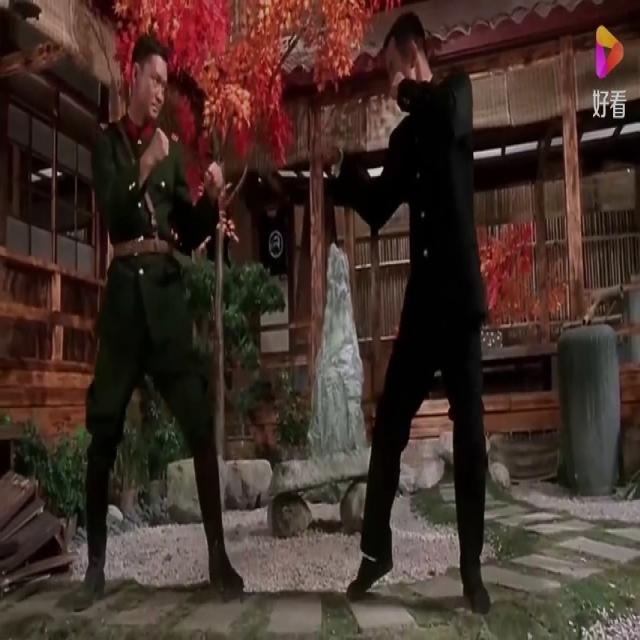fight: (70, 9, 496, 622)
